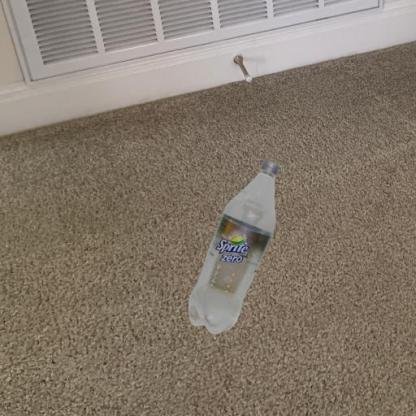bottle: (184, 159, 281, 345)
